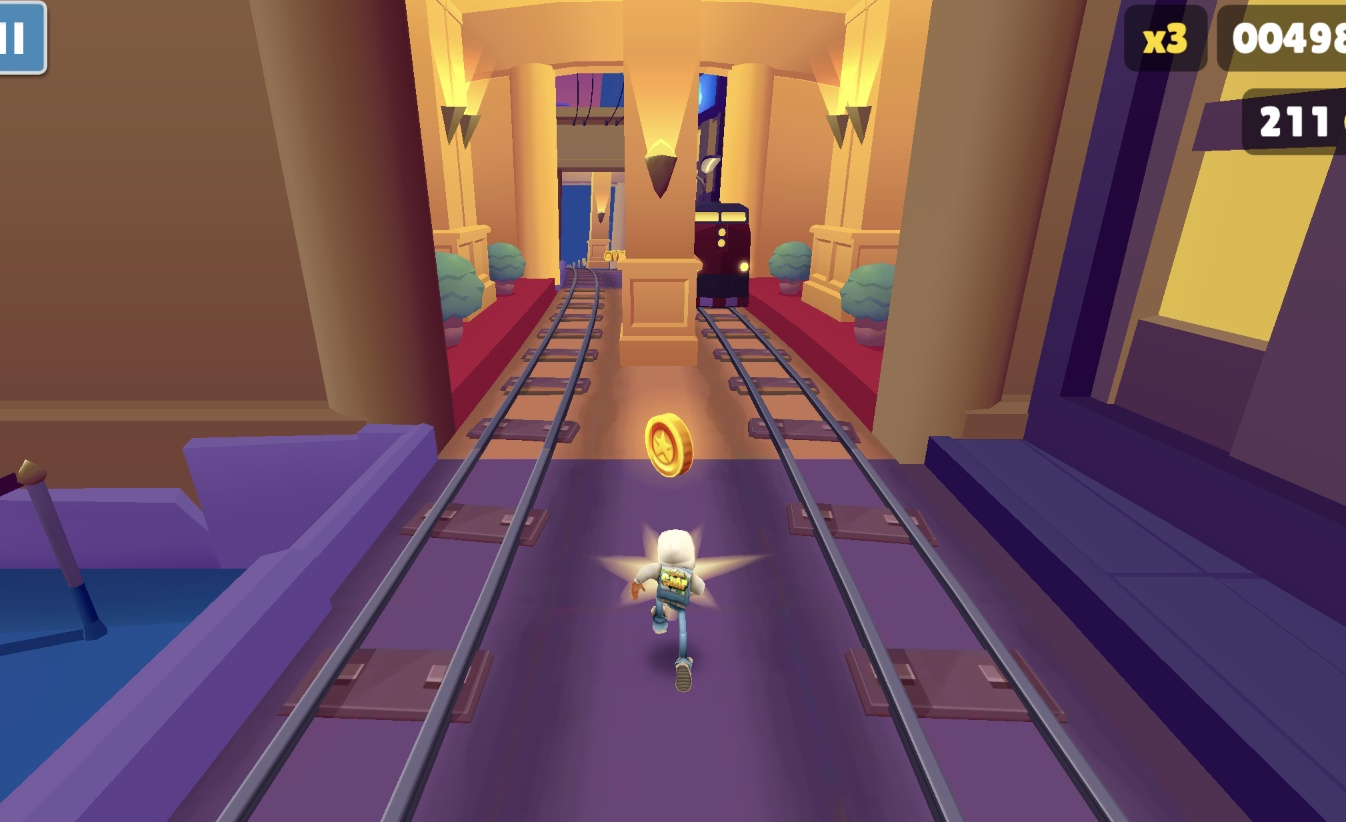pillar: (618, 0, 704, 366), (587, 173, 613, 267)
train: (695, 202, 751, 311)
